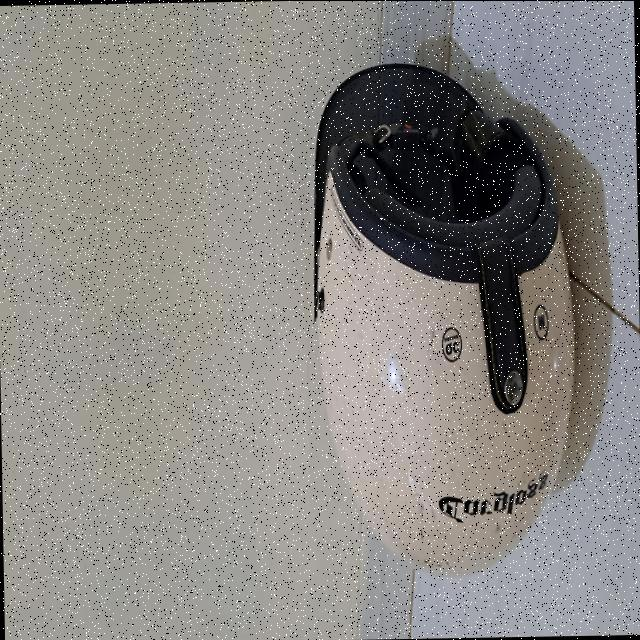Helm: (303, 59, 581, 587)
